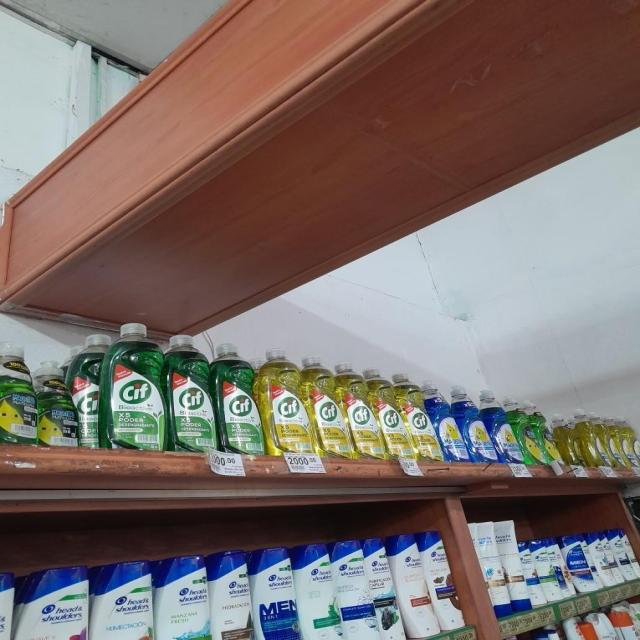cif_conc_bot_amarilla: (261, 347, 309, 456), (310, 354, 346, 458), (346, 362, 378, 461), (405, 372, 435, 461), (377, 368, 406, 460)
cif_conc_botella_verde: (105, 322, 165, 452), (167, 333, 214, 452), (216, 340, 260, 454), (73, 332, 103, 449)
magistral_con_azul: (435, 382, 464, 463), (463, 385, 491, 464)
